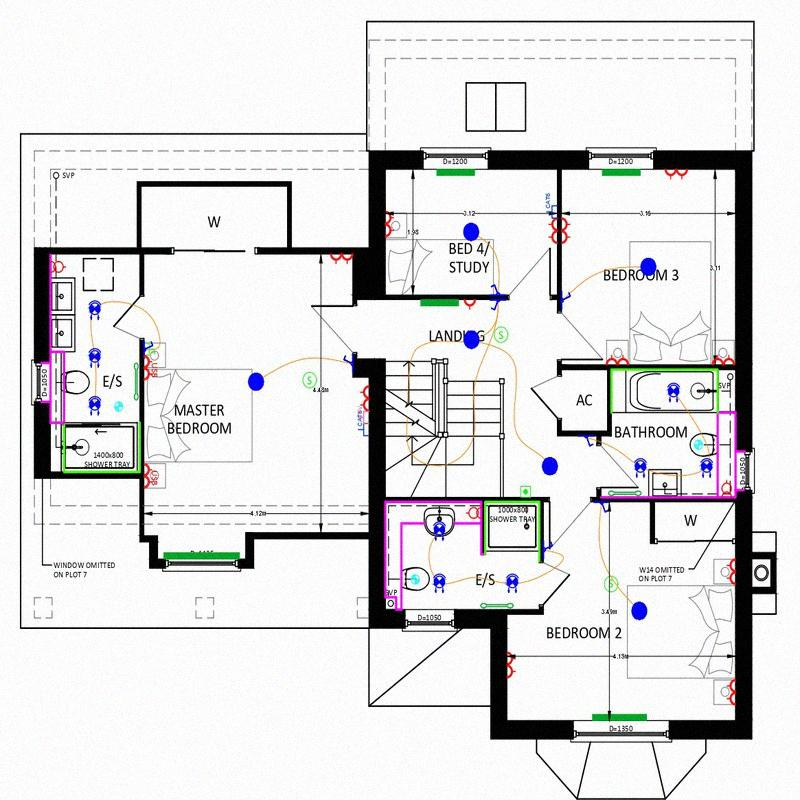Cat 6 Data Socke: (546, 192, 558, 214), (358, 424, 369, 437)
Ceiling Mounted Continuous Extract FanWith Boost Mode Activated By Light Switch: (114, 402, 124, 412), (694, 439, 703, 450), (412, 575, 421, 585)
Double Socket: (546, 216, 558, 244), (559, 217, 571, 245), (329, 252, 354, 264), (606, 354, 631, 366), (726, 558, 737, 585), (711, 354, 735, 366), (726, 678, 736, 706), (664, 169, 689, 180), (506, 652, 516, 679), (359, 385, 369, 411), (384, 213, 394, 238)
Full Height Tiling: (608, 368, 717, 412), (61, 424, 139, 470), (485, 501, 539, 552)
Light Switch: (464, 299, 477, 310), (342, 354, 352, 368), (490, 300, 501, 312), (583, 436, 595, 447), (543, 542, 554, 554), (490, 284, 501, 295), (145, 341, 155, 353), (562, 291, 571, 303), (600, 503, 611, 512)
Low Energy Downlighter: (87, 395, 102, 418), (432, 573, 447, 594), (505, 573, 519, 594), (88, 299, 101, 321), (667, 382, 680, 404), (633, 458, 647, 478), (432, 521, 446, 541), (89, 348, 101, 370), (700, 458, 713, 478)
Low Energy Pendant Light: (640, 257, 658, 277), (462, 330, 480, 349), (247, 372, 264, 391), (463, 222, 479, 242), (631, 601, 647, 620), (542, 457, 558, 475)
Mains Wired Smoke Detector: (301, 371, 317, 388), (604, 576, 619, 593), (494, 327, 508, 343)
Programmable Room Thermostat: (519, 485, 531, 498)
Radiator: (164, 552, 241, 559), (592, 714, 648, 721), (421, 298, 460, 307), (436, 168, 475, 176), (601, 169, 641, 176)
Shaver Socket: (464, 506, 481, 522), (719, 479, 734, 497), (50, 259, 66, 275)
TV & Satellite Multisocket: (359, 411, 369, 424)
USB Double Socket: (144, 463, 159, 488), (145, 354, 158, 381)
